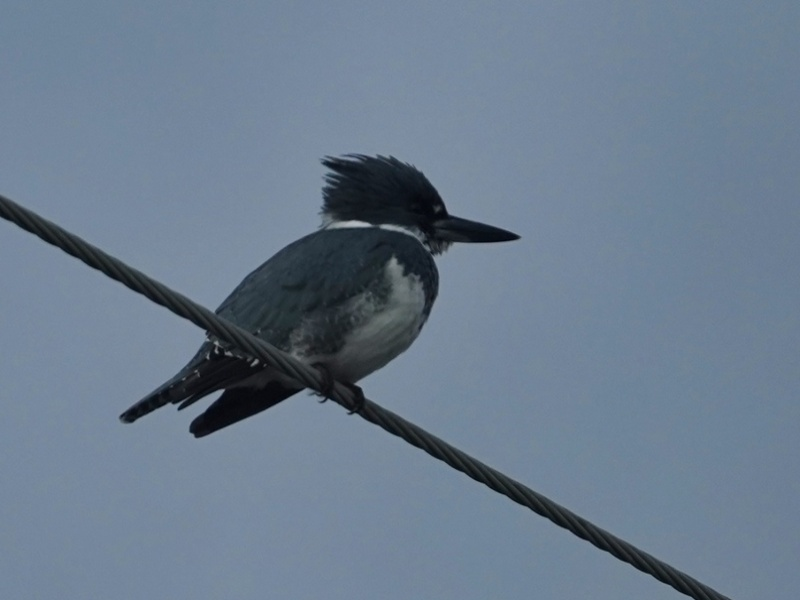kingfisher: (116, 146, 525, 444)
